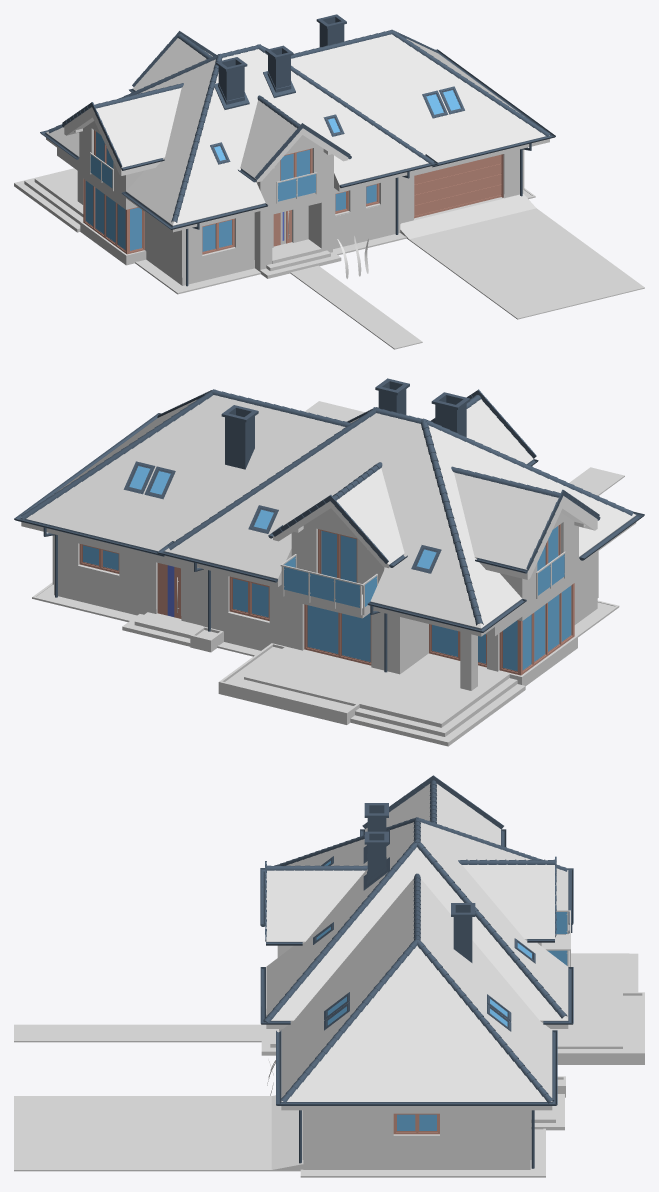
Rendered from 3D_House_01.fbx.
The picture shows the model from 3 angles, top to bottom: view 1: azimuth 30°, elevation 25°; view 2: azimuth 150°, elevation 25°; view 3: azimuth 270°, elevation 25°; orthographic projection. The views are drawn at different scales.
Parts seen in each view (by area): view 1: roof.004, driveway, wall_exterior, cover_roof.010, windows, terrace, garage_door, chimney.002, gutter.000, soffit, window_roof.004, barrels.001 (+3 smaller); view 2: roof.004, wall_exterior, terrace, windows, cover_roof.010, flowerpot, gutter.000, chimney.002, driveway, barrels.001, window_roof.004, soffit (+4 smaller); view 3: roof.004, driveway, wall_exterior, cover_roof.010, terrace, gutter.000, flowerpot, chimney.002, soffit, window_roof.004, windows, cover_roof.002 (+1 smaller).
Part boxes in pixels (left/top/right/bottom): roof.004: left=46, top=34, right=549, bottom=225; driveway: left=135, top=188, right=644, bottom=349; wall_exterior: left=57, top=121, right=524, bottom=285; cover_roof.010: left=48, top=29, right=549, bottom=222; windows: left=83, top=179, right=380, bottom=256; terrace: left=14, top=168, right=341, bottom=278; garage_door: left=414, top=154, right=501, bottom=218; chimney.002: left=214, top=14, right=346, bottom=109; gutter.000: left=40, top=49, right=555, bottom=286; soffit: left=46, top=133, right=549, bottom=232; window_roof.004: left=210, top=86, right=464, bottom=164; barrels.001: left=89, top=152, right=317, bottom=203; roof.004: left=26, top=395, right=635, bottom=628; wall_exterior: left=52, top=508, right=598, bottom=690; terrace: left=122, top=612, right=525, bottom=746; windows: left=78, top=544, right=574, bottom=675; cover_roof.010: left=21, top=389, right=632, bottom=625; flowerpot: left=190, top=626, right=359, bottom=724; gutter.000: left=14, top=413, right=644, bottom=672; chimney.002: left=221, top=378, right=470, bottom=469; driveway: left=32, top=401, right=624, bottom=656; barrels.001: left=280, top=551, right=565, bottom=615; window_roof.004: left=123, top=461, right=441, bottom=573; soffit: left=21, top=515, right=636, bottom=636; roof.004: left=266, top=783, right=568, bottom=1101; driveway: left=14, top=1024, right=545, bottom=1177; wall_exterior: left=279, top=942, right=541, bottom=1169; cover_roof.010: left=263, top=780, right=567, bottom=1103; terrace: left=261, top=953, right=638, bottom=1130; gutter.000: left=260, top=829, right=573, bottom=1168; flowerpot: left=557, top=992, right=644, bottom=1097; chimney.002: left=363, top=803, right=475, bottom=962; soffit: left=266, top=1020, right=568, bottom=1110; window_roof.004: left=313, top=856, right=535, bottom=1031; windows: left=393, top=1113, right=439, bottom=1136; cover_roof.002: left=265, top=775, right=556, bottom=941.
Size of what is drawn, in the model's own units: 2121 by 1019 by 2449.
